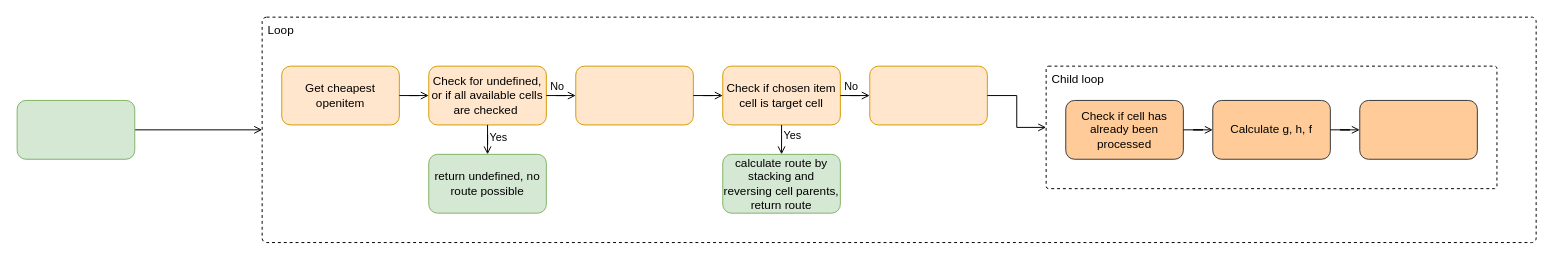
The diagram is 1553 pixels wide and 260 high, and some of its shapes have lost their labels. The centre of each missing label's shape, as x and y in pixels:
"Add child to openitems, if not already" goes at (x=1418, y=129).
"Get children items" goes at (x=928, y=95).
"initialize lists & items" goes at (x=75, y=129).
"move chosen item cell to closedcells" goes at (x=634, y=95).
